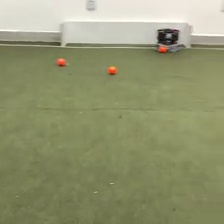ball: (107, 64, 117, 75), (56, 56, 66, 66), (158, 45, 167, 54)
goal: (58, 20, 194, 49)
robot: (156, 27, 180, 53)
